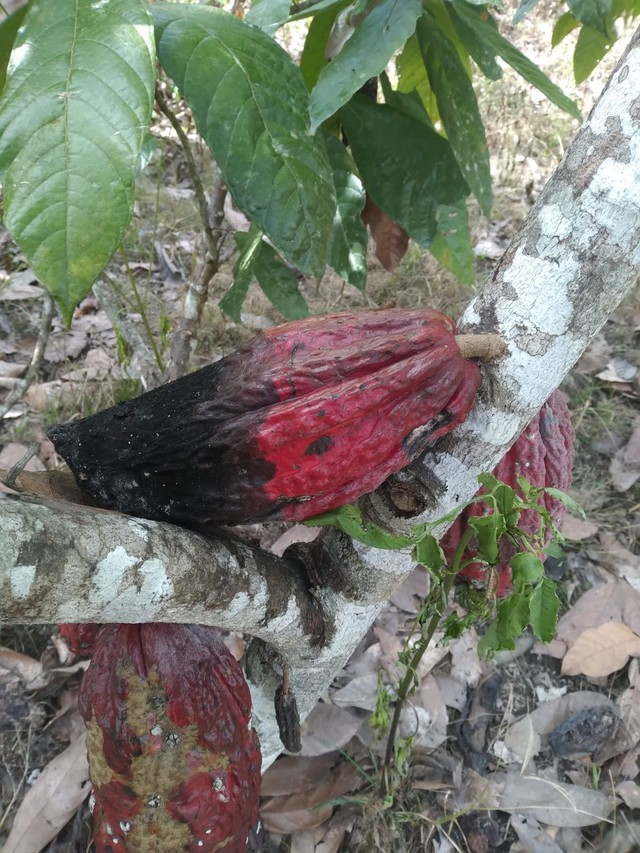moniliophthora roreri: (31, 296, 486, 536)
